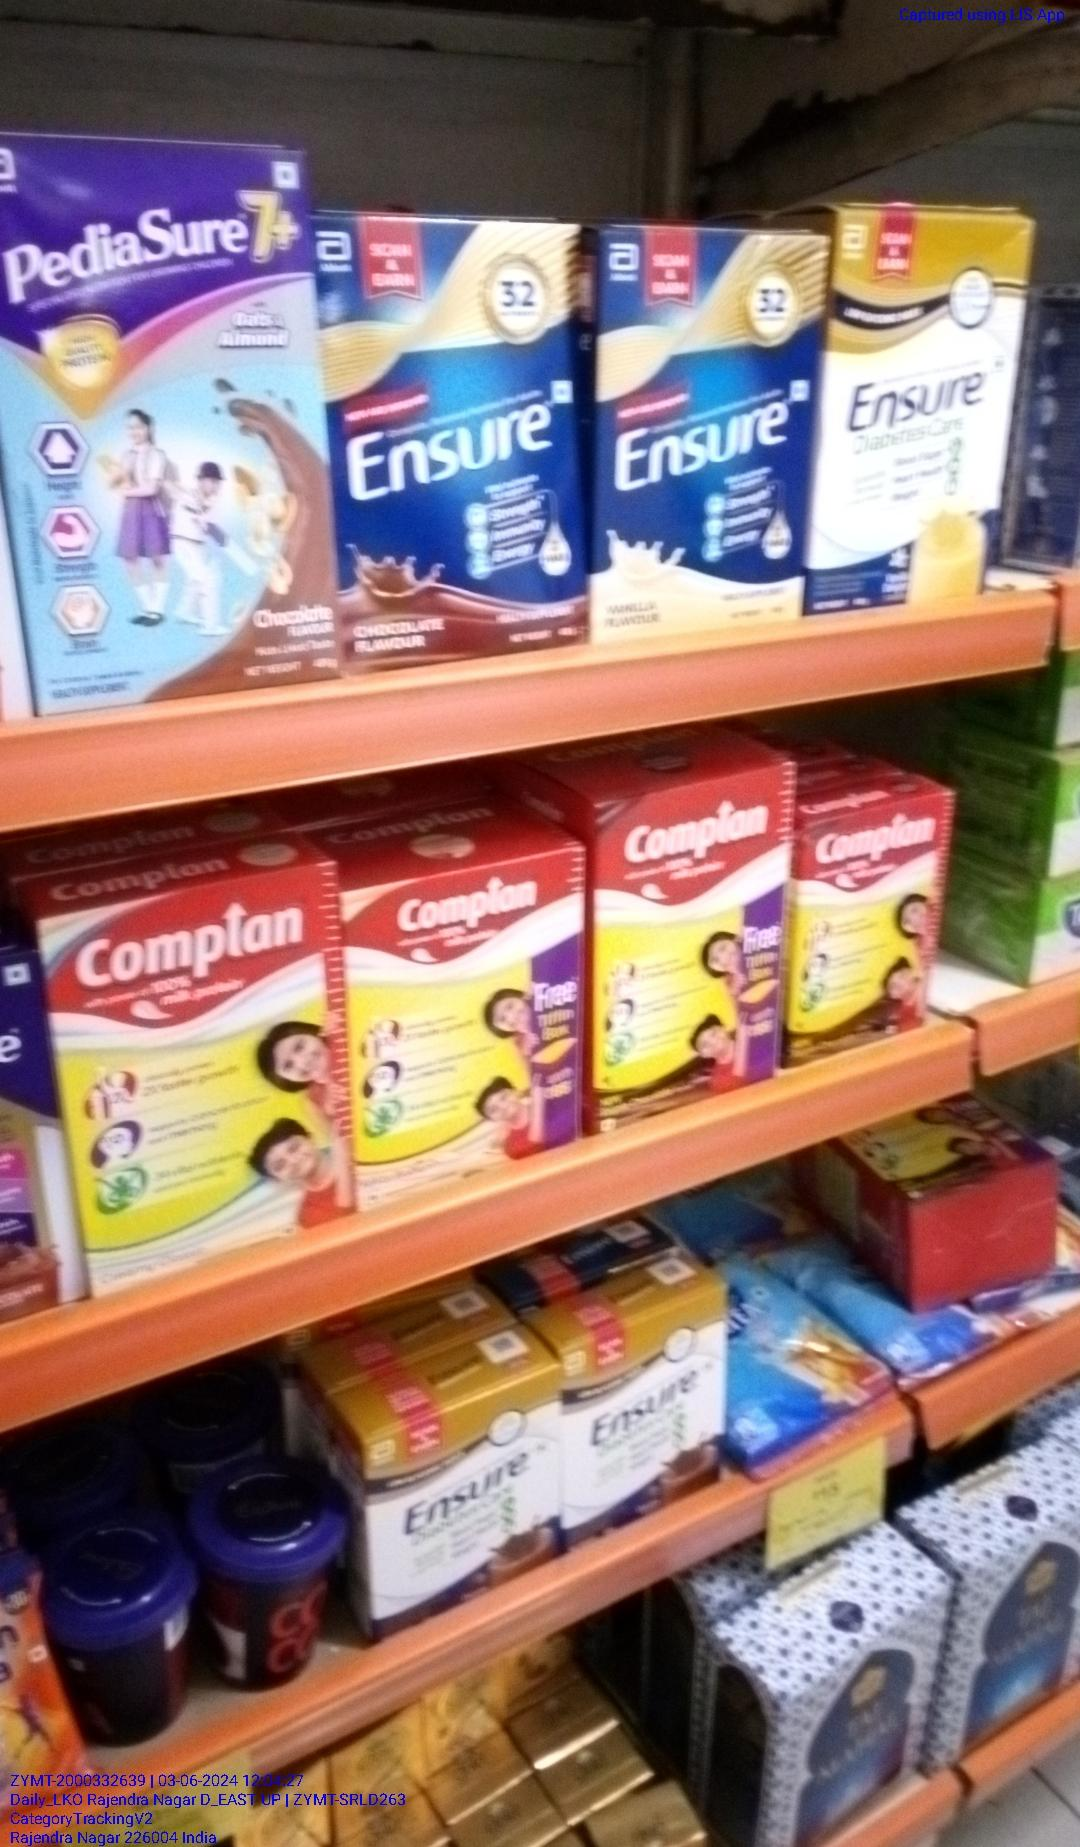ENSURE_VANILLA_400_G_PACK: (600, 224, 823, 647)
PEDIASURE_7_PLUS_CHOCOLATE_400_G_PACK: (8, 139, 343, 703)
